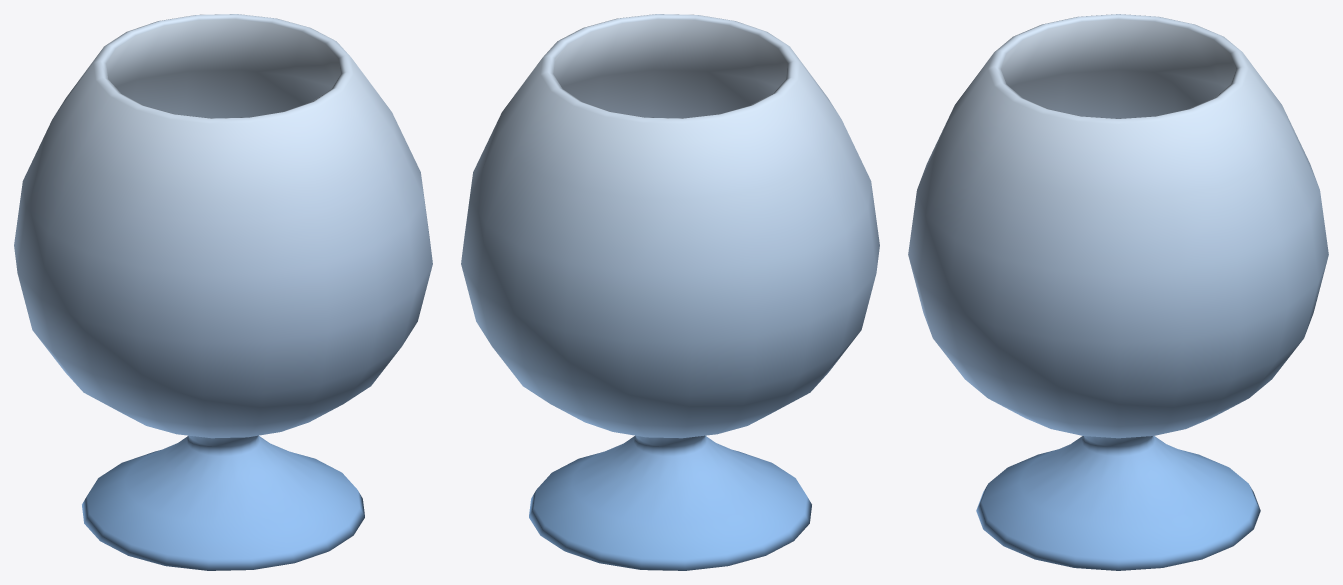
The model's file is glass_005.glb.
3 renders of one model, left to right at view 1: azimuth 30°, elevation 25°; view 2: azimuth 150°, elevation 25°; view 3: azimuth 270°, elevation 25°, orthographic.
Visible parts, largest first — view 1: glass_005; view 2: glass_005; view 3: glass_005.
Part boxes in pixels (box(x1,y1,x2,y2)): glass_005: box(14, 14, 432, 570); glass_005: box(461, 14, 879, 570); glass_005: box(908, 14, 1328, 570).
Size of the model in its own units: 0.1011 by 0.1178 by 0.1011.
Materials: 1 (1 with a texture image).
